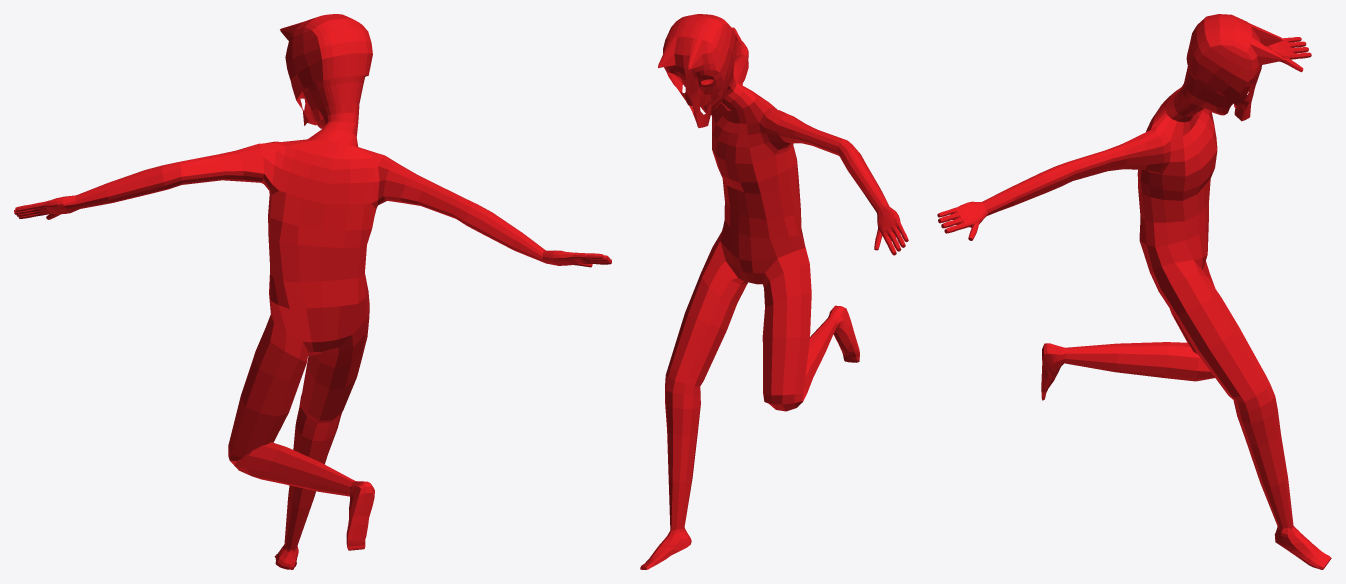
Rendered from saltoadelanteE_000122.obj.
3 views of the same model, side by side, from view 1: azimuth 30°, elevation 25°; view 2: azimuth 150°, elevation 25°; view 3: azimuth 270°, elevation 25° (orthographic). The views are drawn at different scales.
Parts seen in each view (by area): view 1: Plane.002_Plane.001; view 2: Plane.002_Plane.001; view 3: Plane.002_Plane.001.
Part boxes in pixels (left/top/right/bottom): Plane.002_Plane.001: left=14, top=14, right=611, bottom=569; Plane.002_Plane.001: left=640, top=14, right=908, bottom=569; Plane.002_Plane.001: left=937, top=14, right=1331, bottom=569.
Size of the model in its own units: 4.92 by 6.79 by 4.46.
